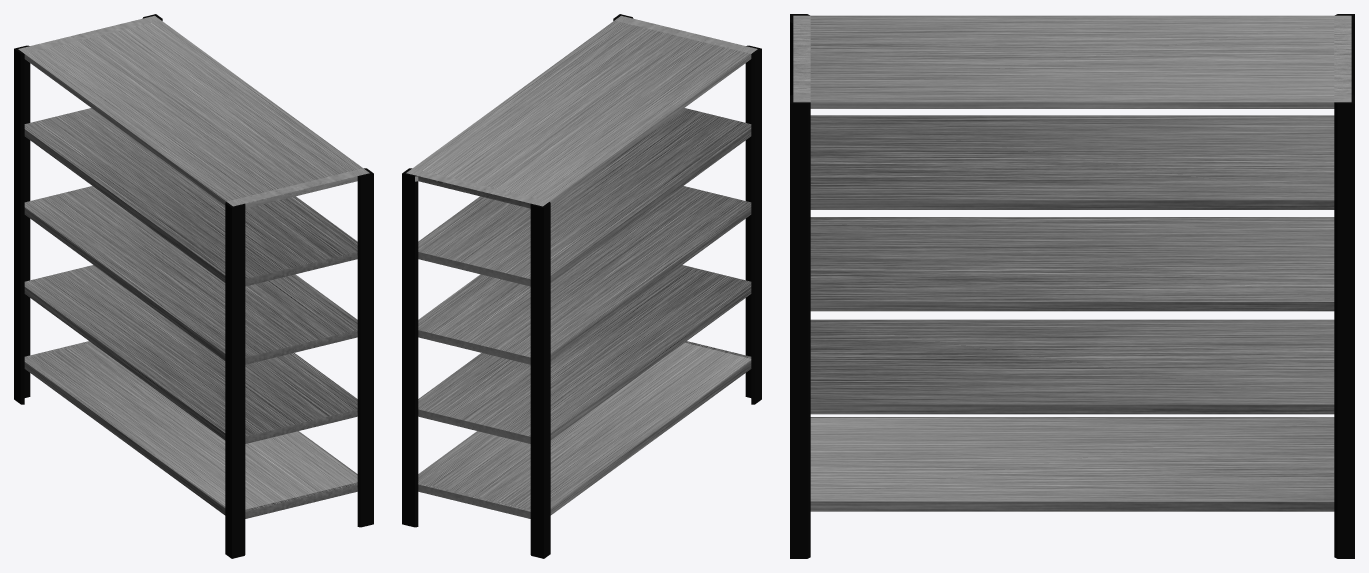
File: ShelvingV2.fbx
The picture shows the model from 3 angles, left to right: view 1: azimuth 30°, elevation 25°; view 2: azimuth 150°, elevation 25°; view 3: azimuth 270°, elevation 25°; orthographic projection. The views are drawn at different scales.
Visible parts, largest first — view 1: polySurface1; view 2: polySurface1; view 3: polySurface1.
Boxes of the visible parts, box(x1,y1,x2,y2) form: polySurface1: box(14, 14, 373, 558); polySurface1: box(402, 14, 761, 558); polySurface1: box(790, 14, 1354, 558).
Bounding box in the file's own units: 5.37 × 12.7 × 14.29.
Materials: 3 (1 with a texture image).
